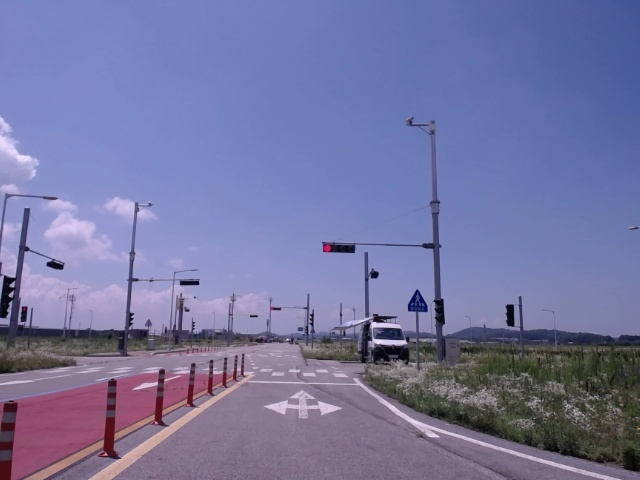red_4: (322, 242, 357, 253)
